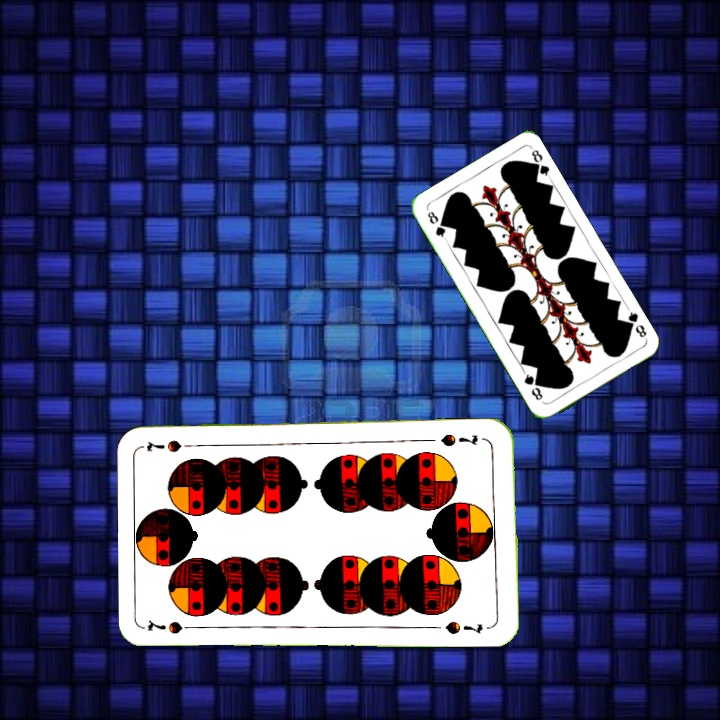G8: (621, 305, 649, 340), (423, 207, 449, 243)
S7: (143, 616, 202, 637), (437, 429, 481, 449)
